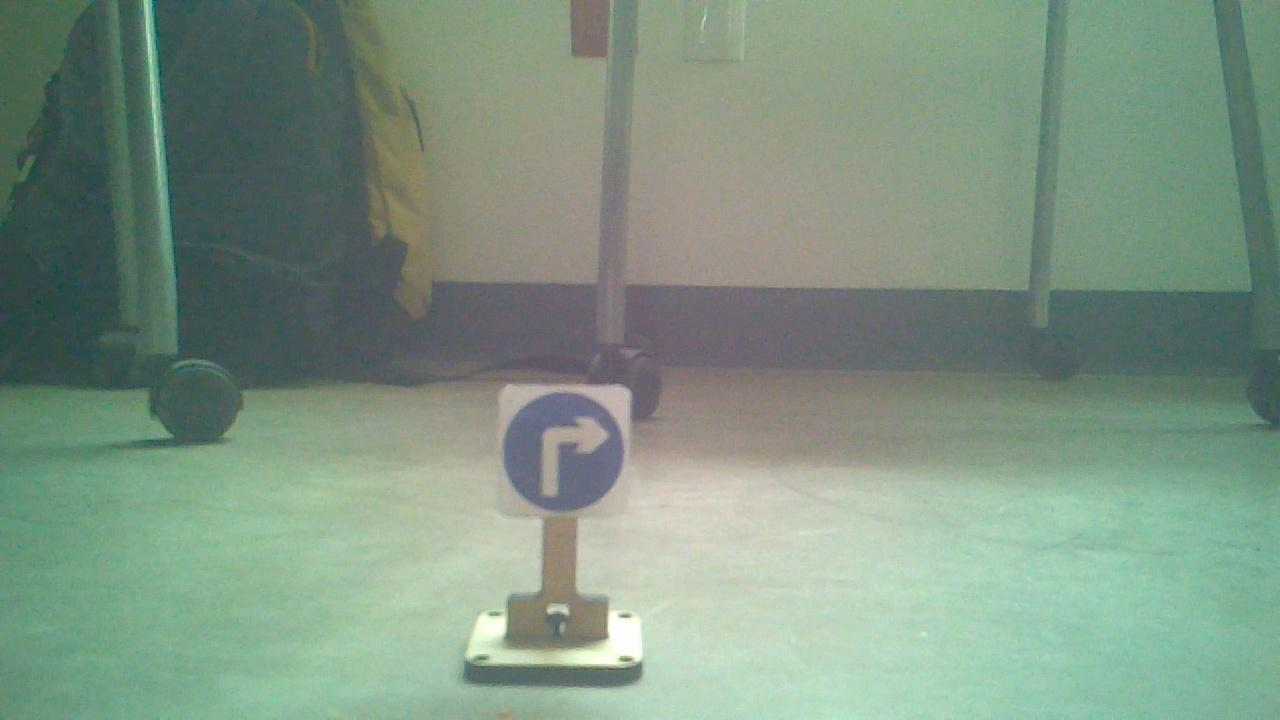turn: (501, 390, 625, 514)
